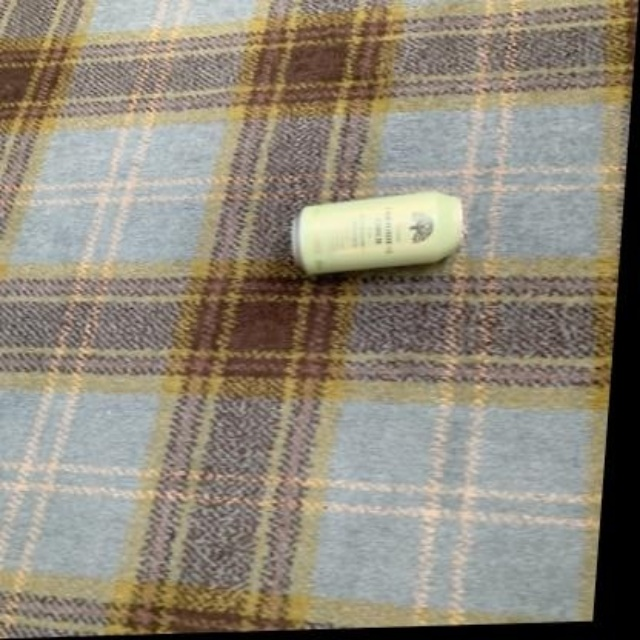trash: (292, 192, 462, 274)
